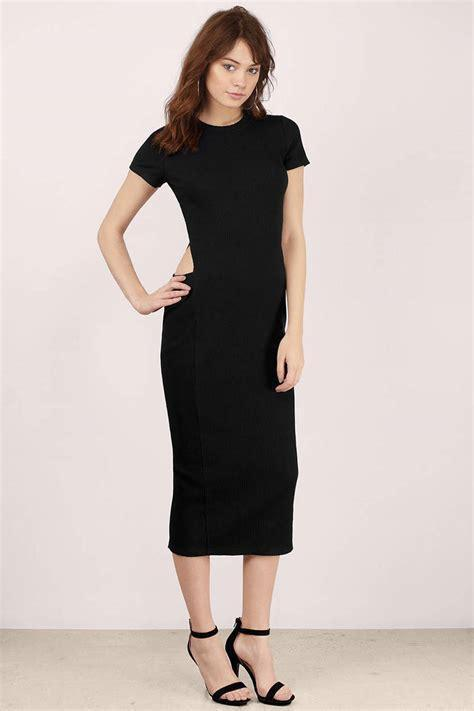dress: (129, 116, 310, 556)
